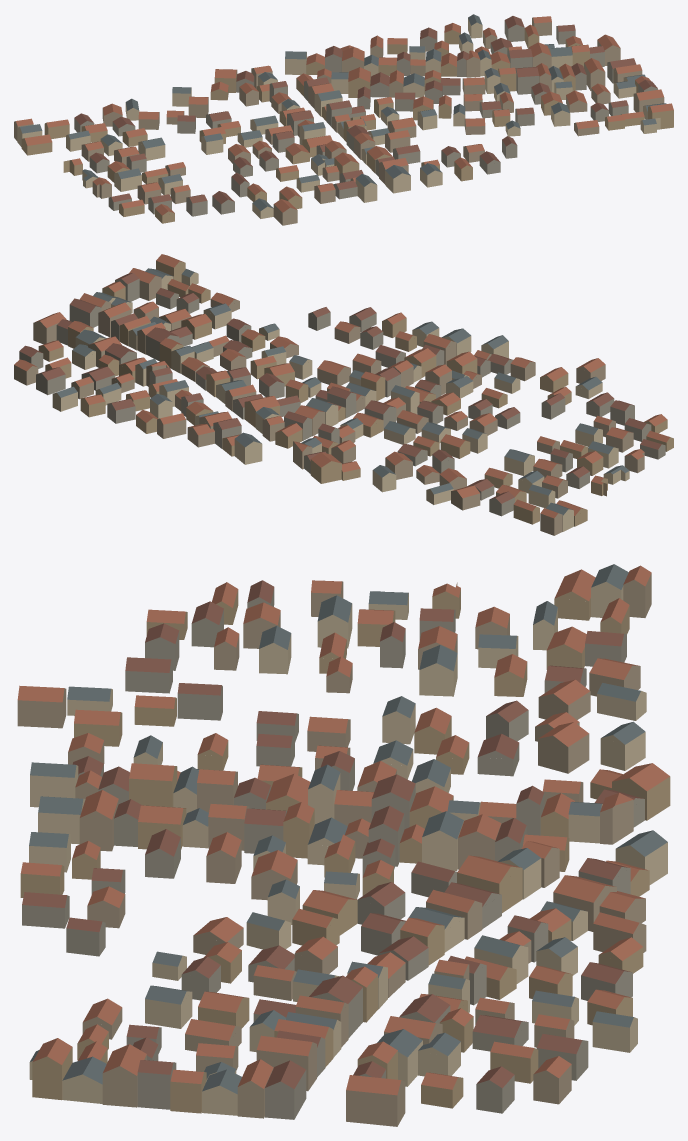
3 renders of one model, top to bottom at view 1: azimuth 30°, elevation 25°; view 2: azimuth 150°, elevation 25°; view 3: azimuth 270°, elevation 25°, orthographic. The views are drawn at different scales.
Visible parts, largest first — view 1: C_-3_3; view 2: C_-3_3; view 3: C_-3_3.
Part boxes in pixels (x1,y1,x2,y2): C_-3_3: [14, 14, 673, 225]; C_-3_3: [14, 254, 673, 535]; C_-3_3: [17, 564, 670, 1126].
Size of the model in its own units: 372 by 14.21 by 193.
